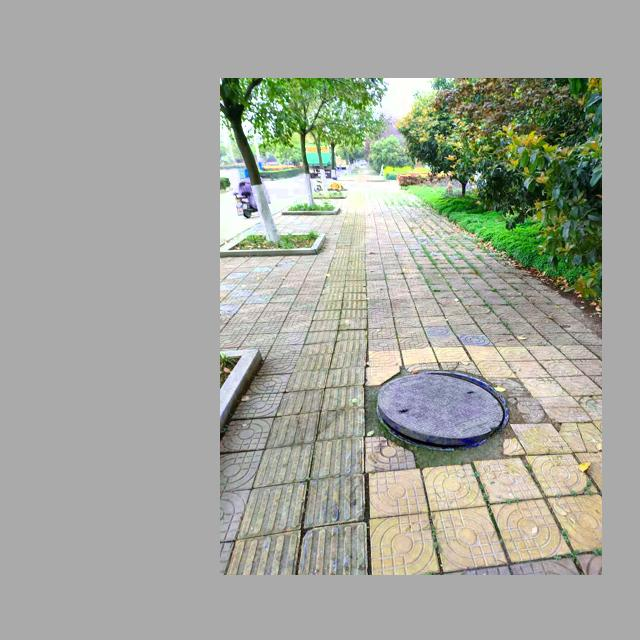uncovered: (366, 366, 534, 454)
